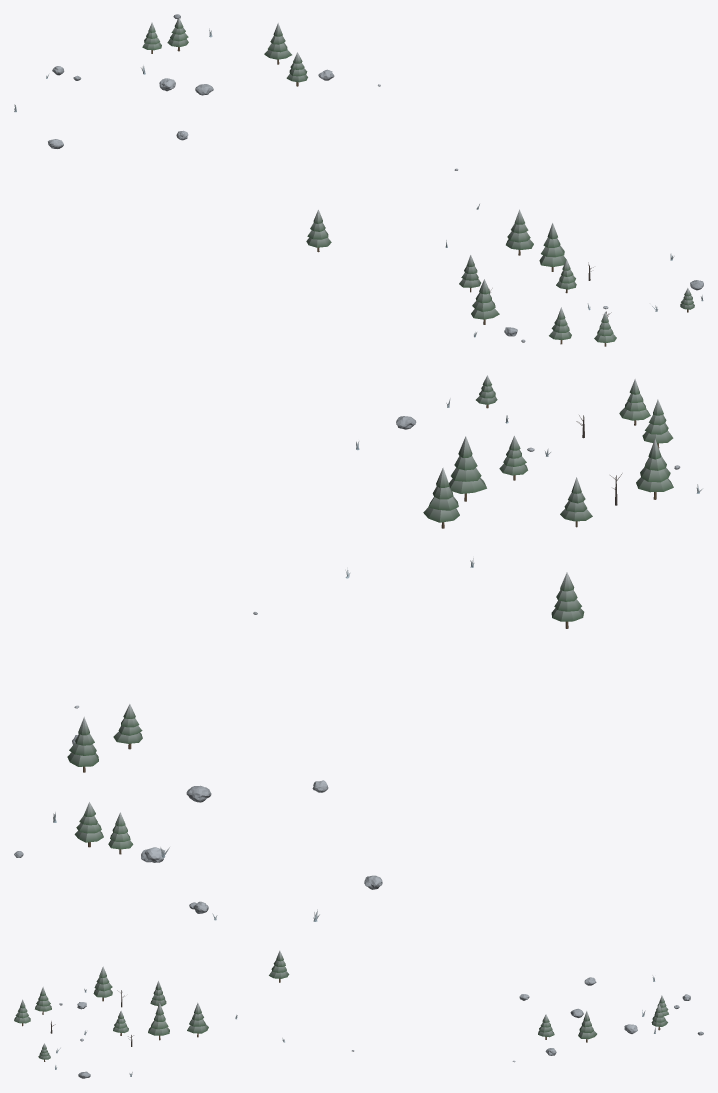
The model's file is frost_land_scatter_c18_12.glb.
3 renders of one model, top to bottom at view 1: azimuth 30°, elevation 25°; view 2: azimuth 150°, elevation 25°; view 3: azimuth 270°, elevation 25°, orthographic. The views are drawn at different scales.
Parts seen in each view (by area): view 1: frost_land_scatter_c18_12; view 2: frost_land_scatter_c18_12; view 3: frost_land_scatter_c18_12.
Part boxes in pixels (x1=…): frost_land_scatter_c18_12: x1=14, y1=14, x2=703, y2=346; frost_land_scatter_c18_12: x1=14, y1=375, x2=703, y2=921; frost_land_scatter_c18_12: x1=14, y1=950, x2=703, y2=1078.
Size of the model in its own units: 104 by 25.12 by 254.
